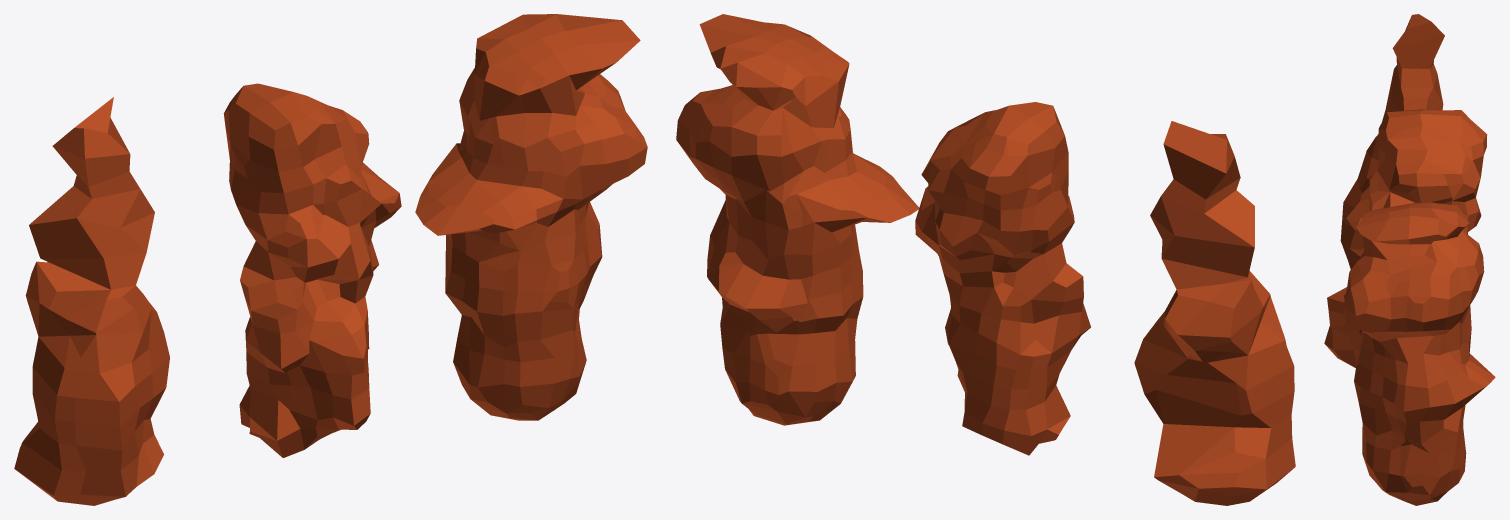
Rendered from TallRocks.fbx.
The picture shows the model from 3 angles, left to right: view 1: azimuth 30°, elevation 25°; view 2: azimuth 150°, elevation 25°; view 3: azimuth 270°, elevation 25°; orthographic projection. The views are drawn at different scales.
Visible parts, largest first — view 1: Mball.016, Mball.015, Mball.006; view 2: Mball.016, Mball.015, Mball.006; view 3: Mball.016, Mball.015, Mball.006.
Boxes of the visible parts, x1,y1,x2,y2 form: Mball.016: (415,14,647,420); Mball.015: (223,83,401,457); Mball.006: (14,97,169,505); Mball.016: (676,14,918,425); Mball.015: (915,102,1090,455); Mball.006: (1134,121,1295,505); Mball.016: (1343,202,1495,505); Mball.015: (1324,109,1487,367); Mball.006: (1340,14,1444,269).
Bounding box in the file's own units: 3097 × 2021 × 966.
